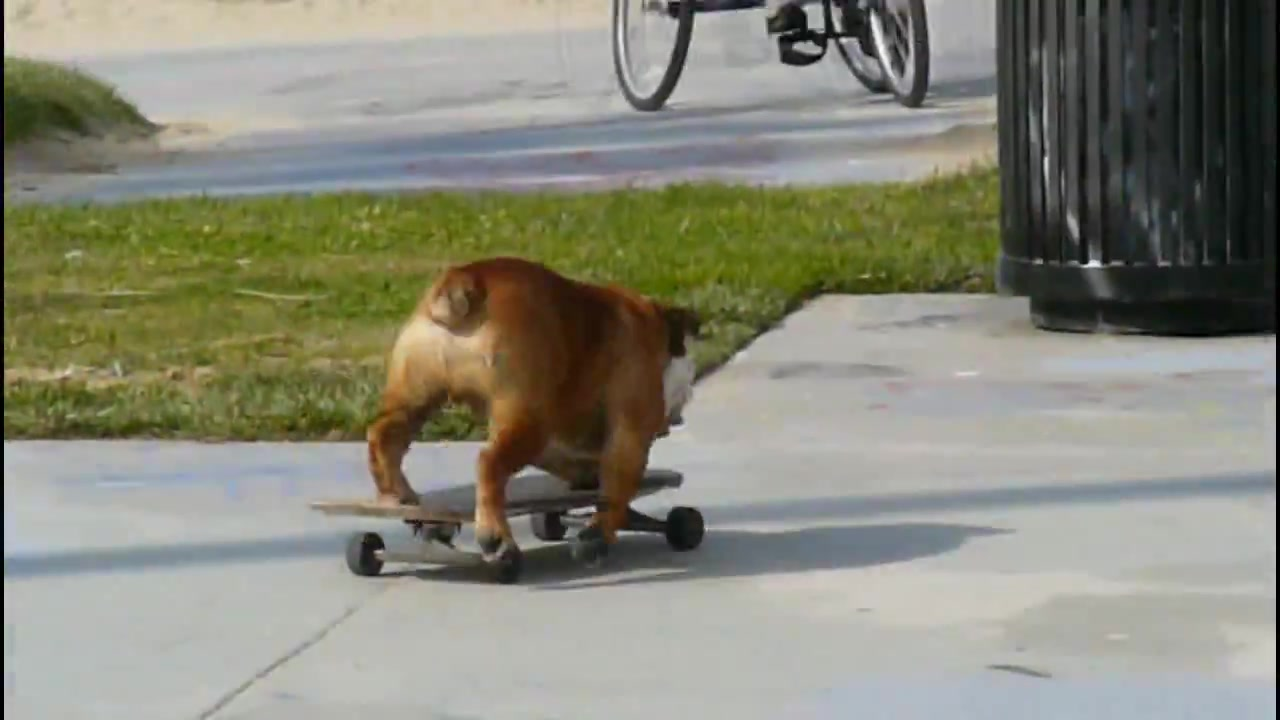dog: (371, 258, 700, 560)
